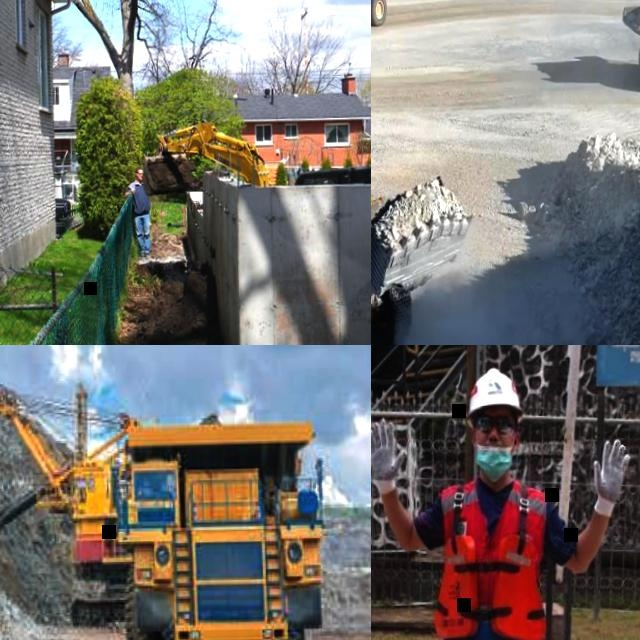Hardhat: (465, 362, 522, 412)
Mask: (472, 436, 518, 480)
NO-Hardhat: (135, 165, 144, 172)
NO-Mask: (135, 174, 143, 181)
NO-Safety Vest: (133, 179, 152, 213)
Person: (371, 355, 640, 640), (123, 164, 155, 254)
Safety Vest: (429, 476, 554, 640)
machinery: (113, 404, 328, 640), (0, 379, 142, 630), (371, 119, 482, 345), (139, 114, 273, 198), (621, 0, 640, 95)
vehicle: (293, 160, 371, 187)
